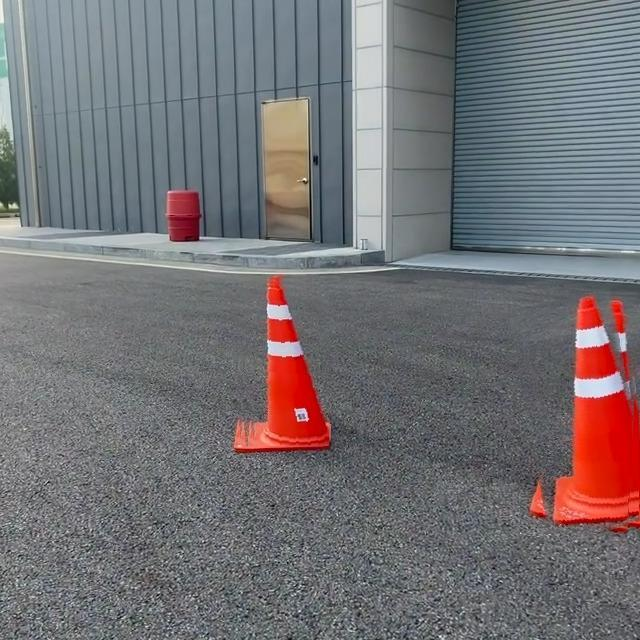fallen_object: (467, 250, 640, 558), (163, 267, 376, 470)
